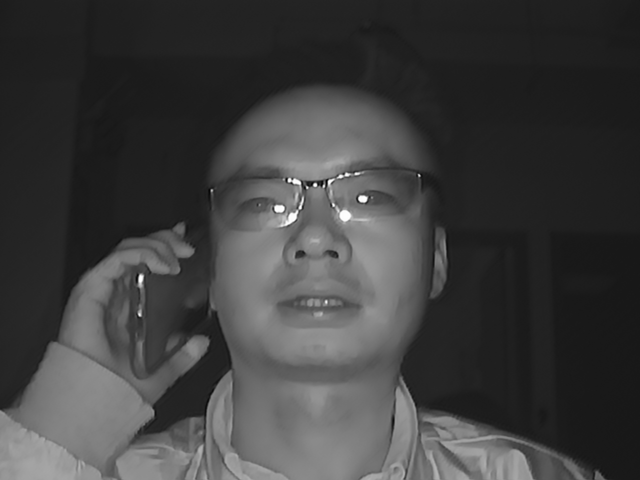hand: (72, 222, 191, 398)
